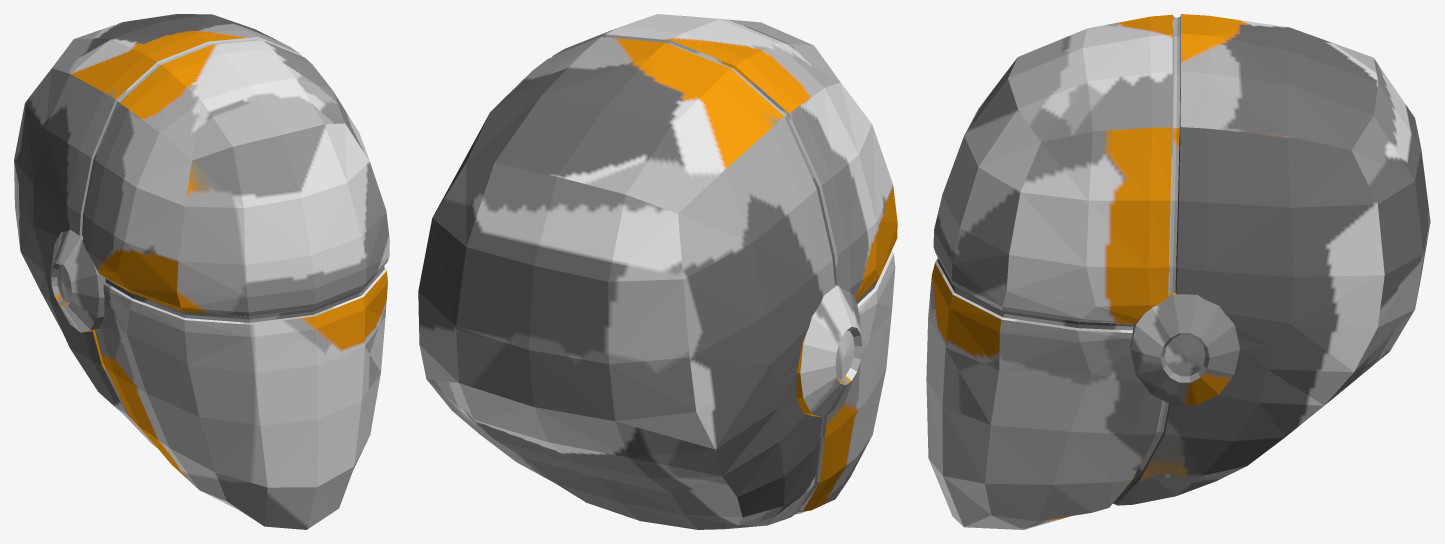
File: Head.obj
3 views of the same model, side by side, from view 1: azimuth 30°, elevation 25°; view 2: azimuth 150°, elevation 25°; view 3: azimuth 270°, elevation 25° (orthographic). The views are drawn at different scales.
Visible parts, largest first — view 1: Head_Mesh.258; view 2: Head_Mesh.258; view 3: Head_Mesh.258.
Part boxes in pixels (left/top/right/bottom): Head_Mesh.258: left=14, top=14, right=389, bottom=529; Head_Mesh.258: left=418, top=14, right=897, bottom=529; Head_Mesh.258: left=926, top=14, right=1430, bottom=529.
Bounding box in the file's own units: 0.1573 × 0.2156 × 0.204.
1 material, 1 textured.
